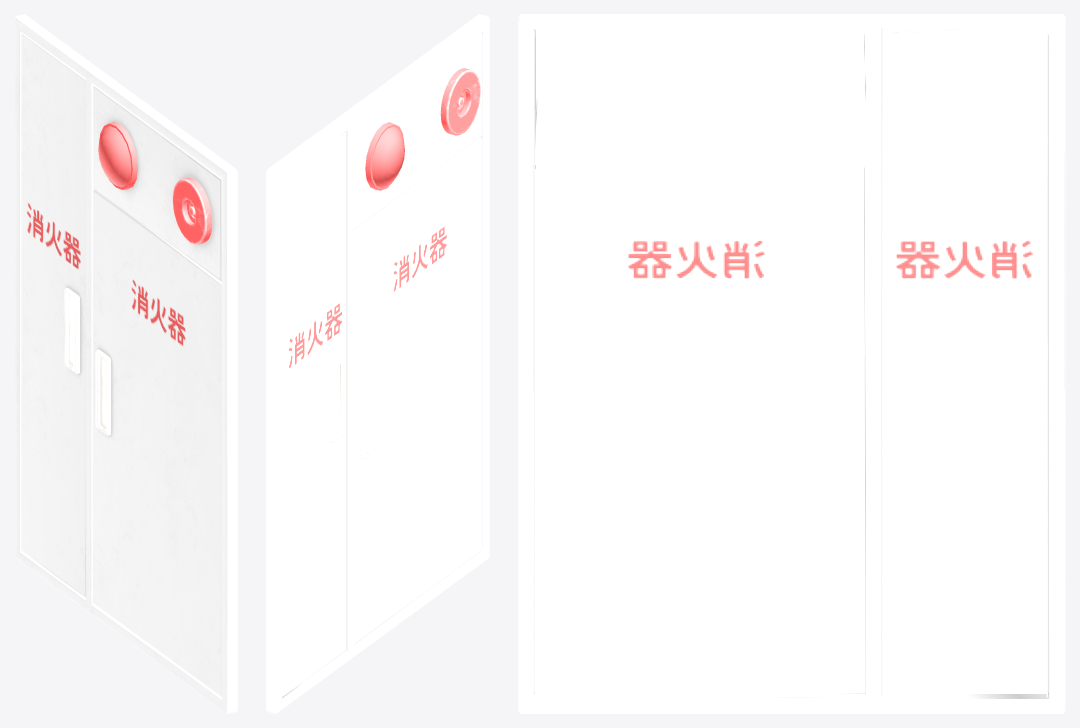
File: SM_FireExtinguisherCabinet_01.fbx
3 views of the same model, side by side, from view 1: azimuth 30°, elevation 25°; view 2: azimuth 150°, elevation 25°; view 3: azimuth 270°, elevation 25° (orthographic). The views are drawn at different scales.
Visible parts, largest first — view 1: SM_FireExtinguisherCabinet_01_LOD0; view 2: SM_FireExtinguisherCabinet_01_LOD0; view 3: SM_FireExtinguisherCabinet_01_LOD0.
Boxes of the visible parts, x1,y1,x2,y2 form: SM_FireExtinguisherCabinet_01_LOD0: [14, 14, 237, 713]; SM_FireExtinguisherCabinet_01_LOD0: [266, 14, 489, 713]; SM_FireExtinguisherCabinet_01_LOD0: [518, 14, 1065, 713].
Bounding box in the file's own units: 4.81 × 75.06 × 105.
